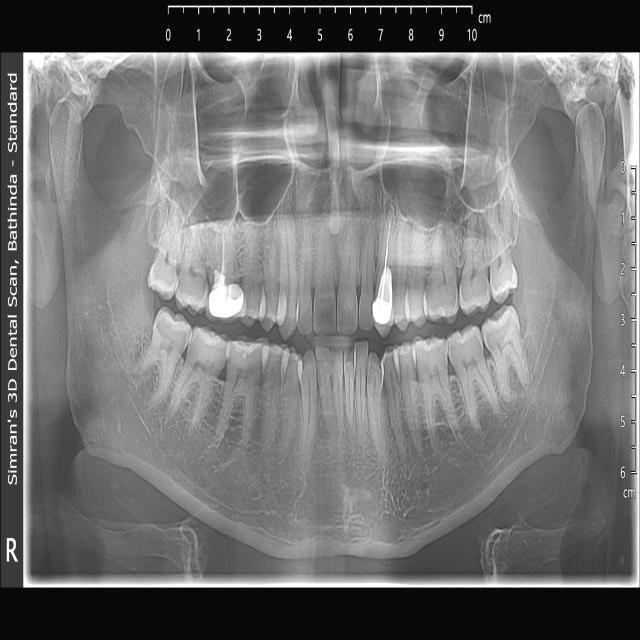Caries: (253, 371, 264, 395)
Crown: (208, 282, 242, 319), (373, 267, 393, 324)
Mandibular Canal: (407, 276, 564, 528), (102, 285, 270, 514)
Root Canal Treatment: (384, 214, 392, 268), (222, 230, 225, 276)
maxillary sinus: (158, 53, 296, 230), (376, 53, 509, 234)
